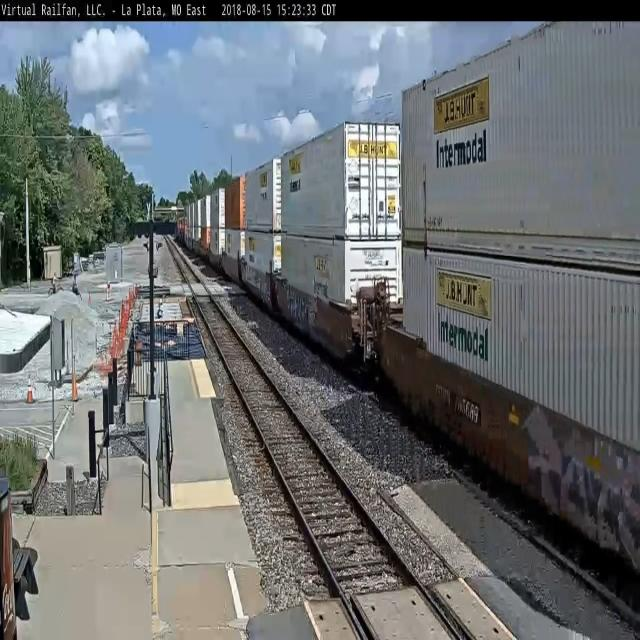container: (393, 20, 640, 274), (397, 242, 640, 461), (279, 117, 402, 242), (278, 229, 403, 310)
flatcar: (375, 311, 640, 588), (274, 272, 382, 376)
